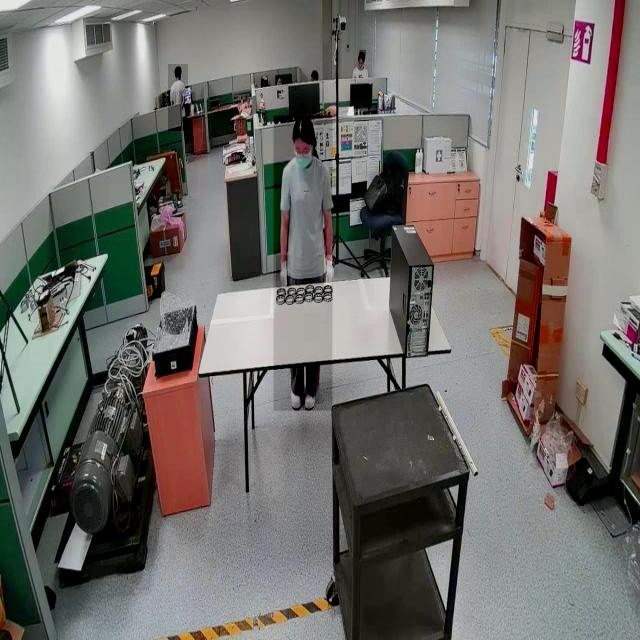face_mask: (293, 142, 315, 174)
hand_glove: (276, 255, 290, 299), (324, 255, 332, 286)
head_nohelmet: (294, 115, 316, 138), (359, 50, 366, 58), (175, 65, 182, 72)
person: (273, 116, 333, 412), (168, 64, 188, 132)
